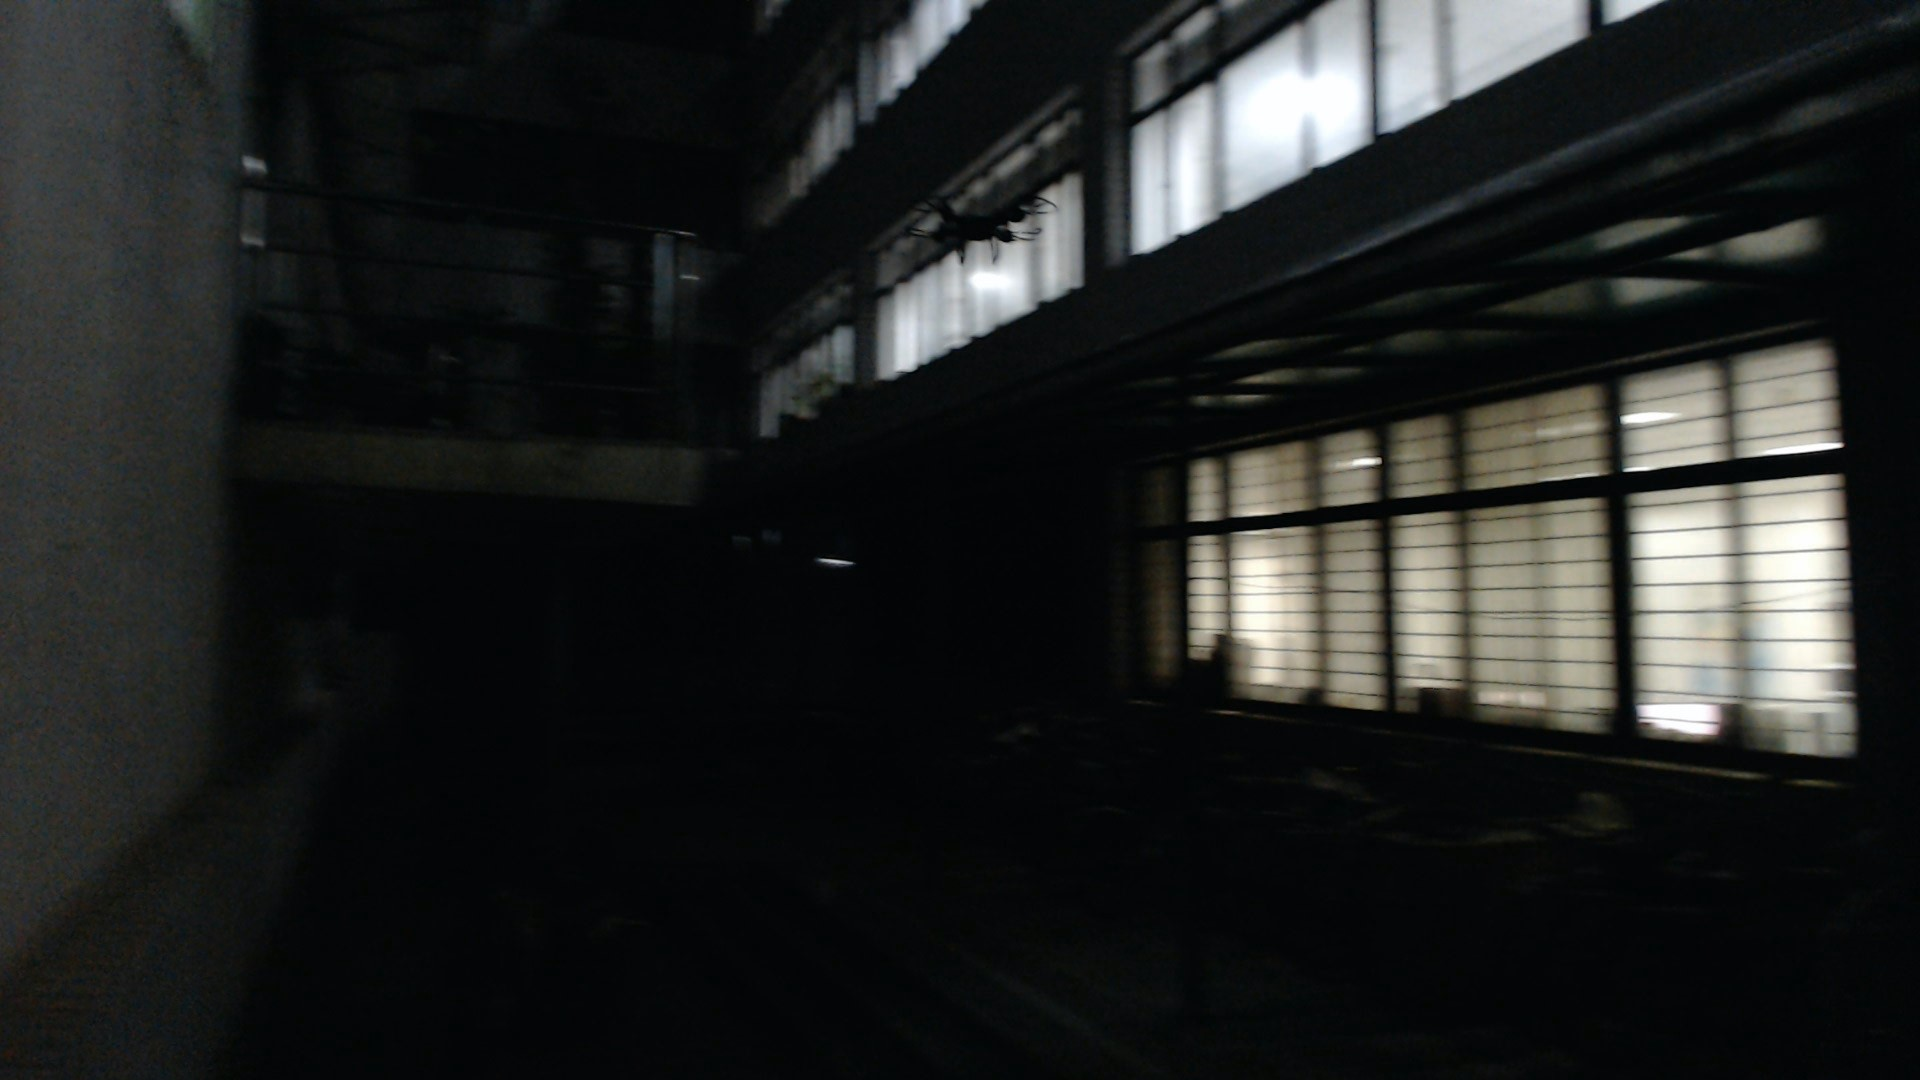test_drone: (890, 186, 1062, 274)
